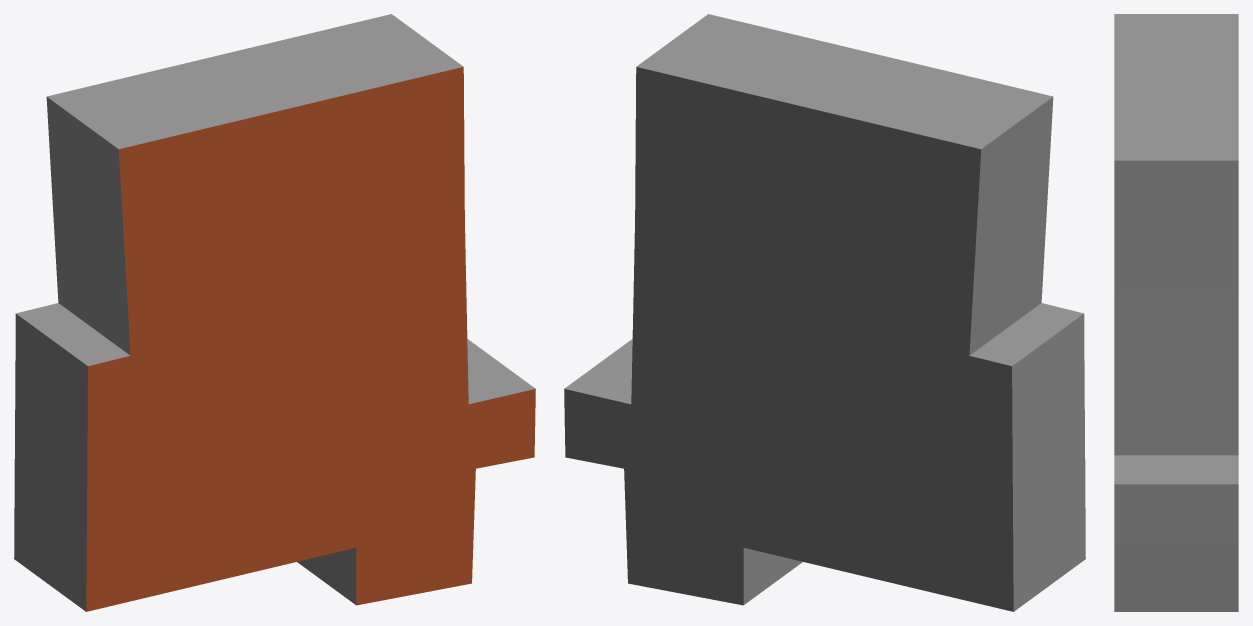
Rendered from construction_6205_assumed_A_Casa_h6m.obj.
3 views of the same model, side by side, from view 1: azimuth 30°, elevation 25°; view 2: azimuth 150°, elevation 25°; view 3: azimuth 270°, elevation 25° (orthographic). The views are drawn at different scales.
Visible parts, largest first — view 1: construction_6205_assumed_A_Casa; view 2: construction_6205_assumed_A_Casa; view 3: construction_6205_assumed_A_Casa.
Part boxes in pixels (left/top/right/bottom): construction_6205_assumed_A_Casa: left=14, top=14, right=535, bottom=611; construction_6205_assumed_A_Casa: left=564, top=14, right=1085, bottom=611; construction_6205_assumed_A_Casa: left=1114, top=14, right=1238, bottom=611.
Bounding box in the file's own units: 21.58 × 23.88 × 6.
